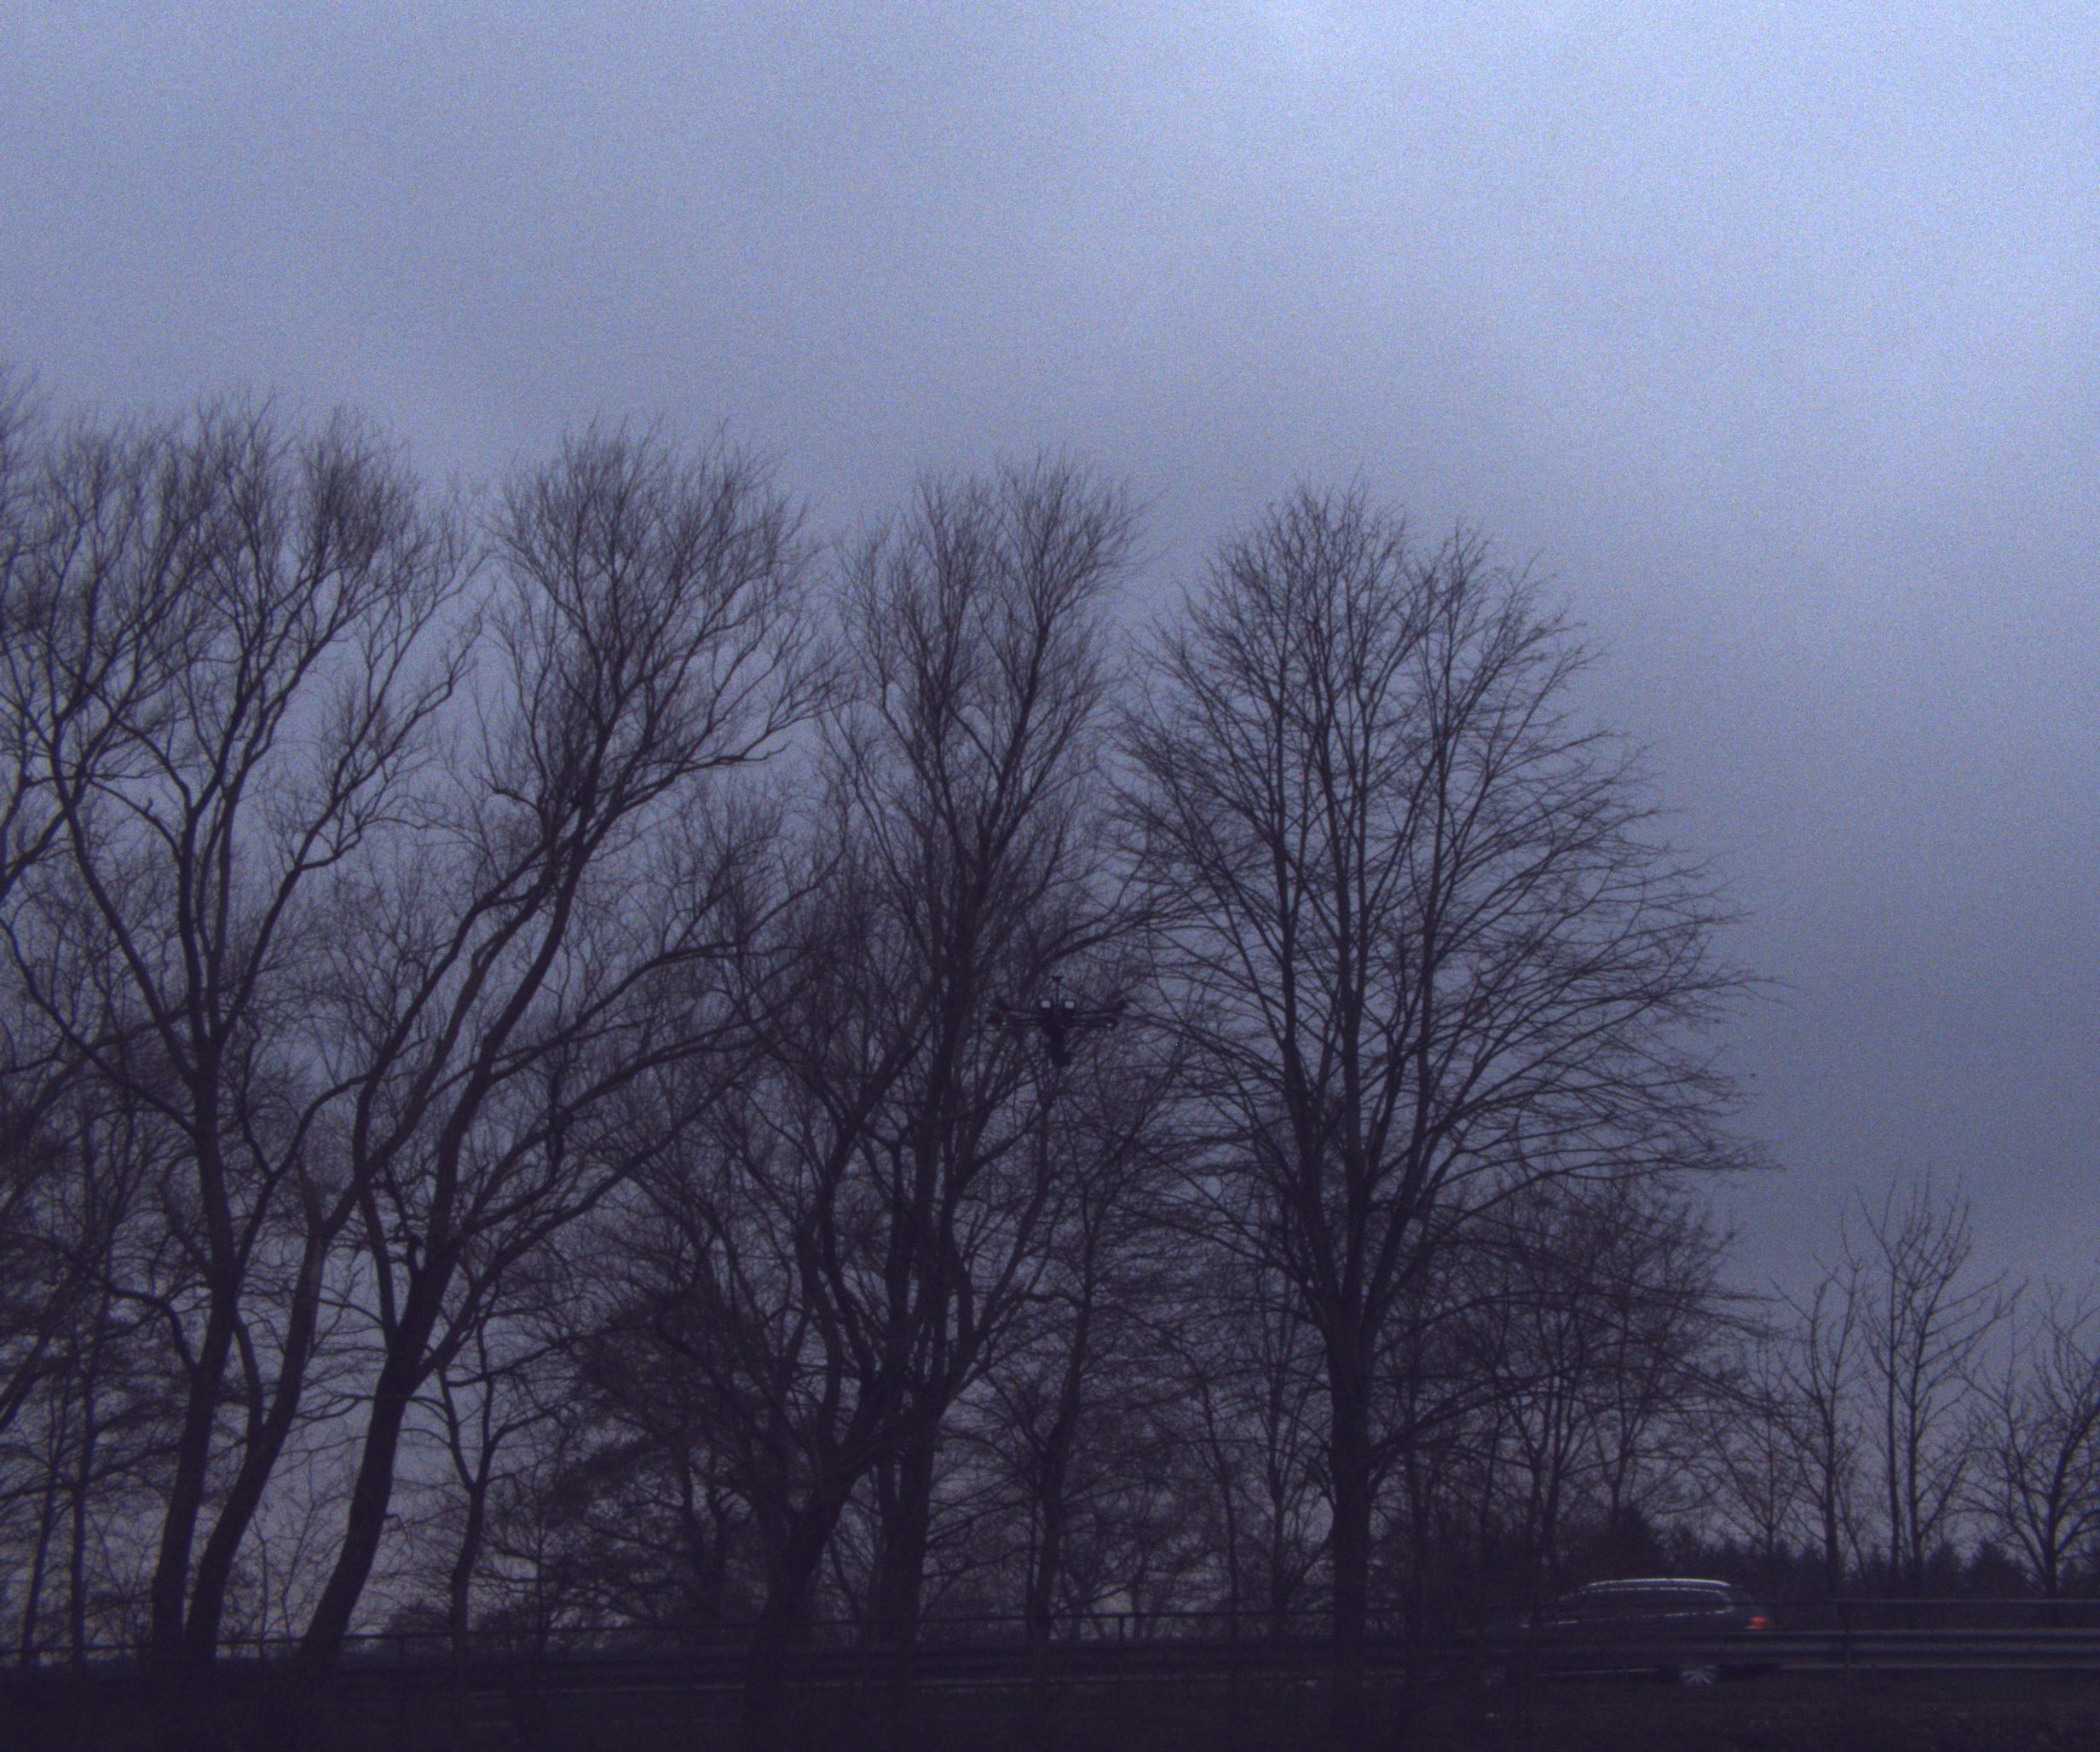Drohne: (938, 948, 1155, 1065)
